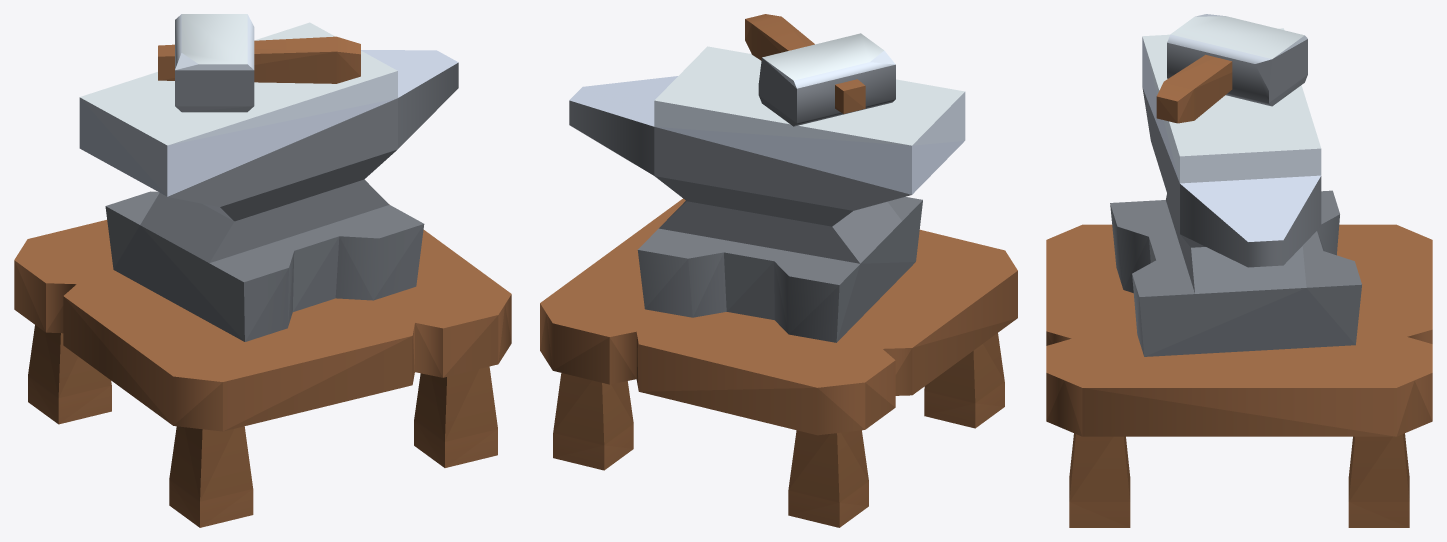
The model's file is kenney_survival_workbench_anvil.glb.
3 views of the same model, side by side, from view 1: azimuth 30°, elevation 25°; view 2: azimuth 150°, elevation 25°; view 3: azimuth 270°, elevation 25° (orthographic). The views are drawn at different scales.
Parts seen in each view (by area): view 1: wood, metal, cloth; view 2: wood, metal, cloth; view 3: wood, metal, cloth.
Part boxes in pixels (<box>): wood: <box>14,36,511,527</box>; metal: <box>105,62,458,341</box>; cloth: <box>79,14,458,196</box>; wood: <box>540,14,1017,527</box>; metal: <box>569,58,922,342</box>; cloth: <box>569,33,965,194</box>; wood: <box>1046,54,1432,527</box>; metal: <box>1110,39,1361,356</box>; cloth: <box>1142,14,1321,241</box>.
Bounding box in the file's own units: 0.3227 × 0.3358 × 0.2957.
